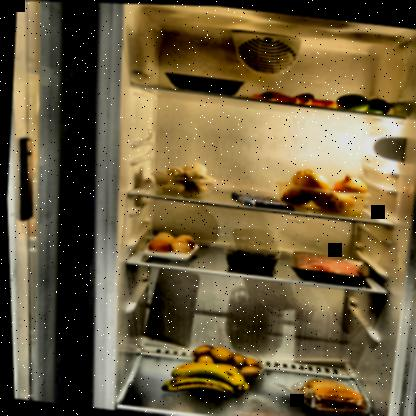banana: (150, 355, 251, 403)
blueberries: (218, 245, 279, 273)
carrot: (248, 83, 340, 107)
chocolate: (227, 189, 295, 211)
eggs: (146, 228, 197, 259)
ground_beef: (282, 246, 372, 286)
lime: (335, 90, 393, 114)
mushrooms: (146, 156, 212, 196)
onion: (269, 161, 373, 218)
potato: (184, 339, 263, 379)
